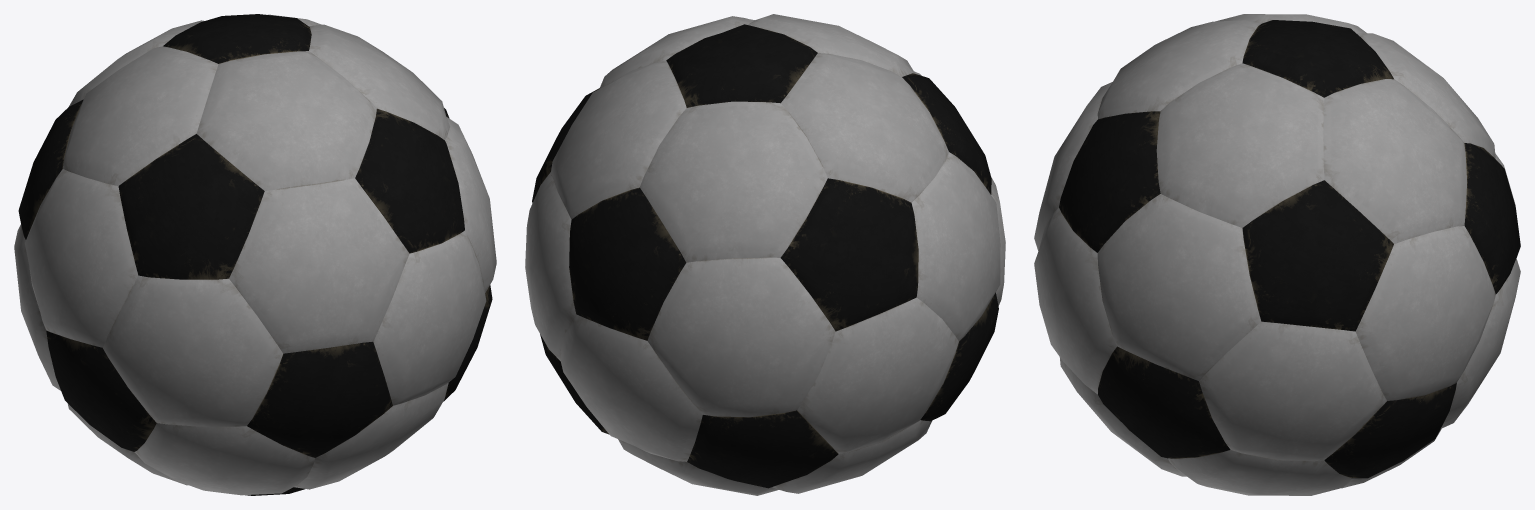
The model's file is bola.glb.
3 renders of one model, left to right at view 1: azimuth 30°, elevation 25°; view 2: azimuth 150°, elevation 25°; view 3: azimuth 270°, elevation 25°, orthographic.
Parts seen in each view (by area): view 1: soccer_ ball; view 2: soccer_ ball; view 3: soccer_ ball.
Part boxes in pixels (x1,y1,x2,y2): soccer_ ball: (14, 14, 496, 495); soccer_ ball: (525, 14, 1005, 495); soccer_ ball: (1034, 14, 1520, 495).
Size of the model in its own units: 0.1369 by 0.1378 by 0.1377.
1 material, 1 textured.
